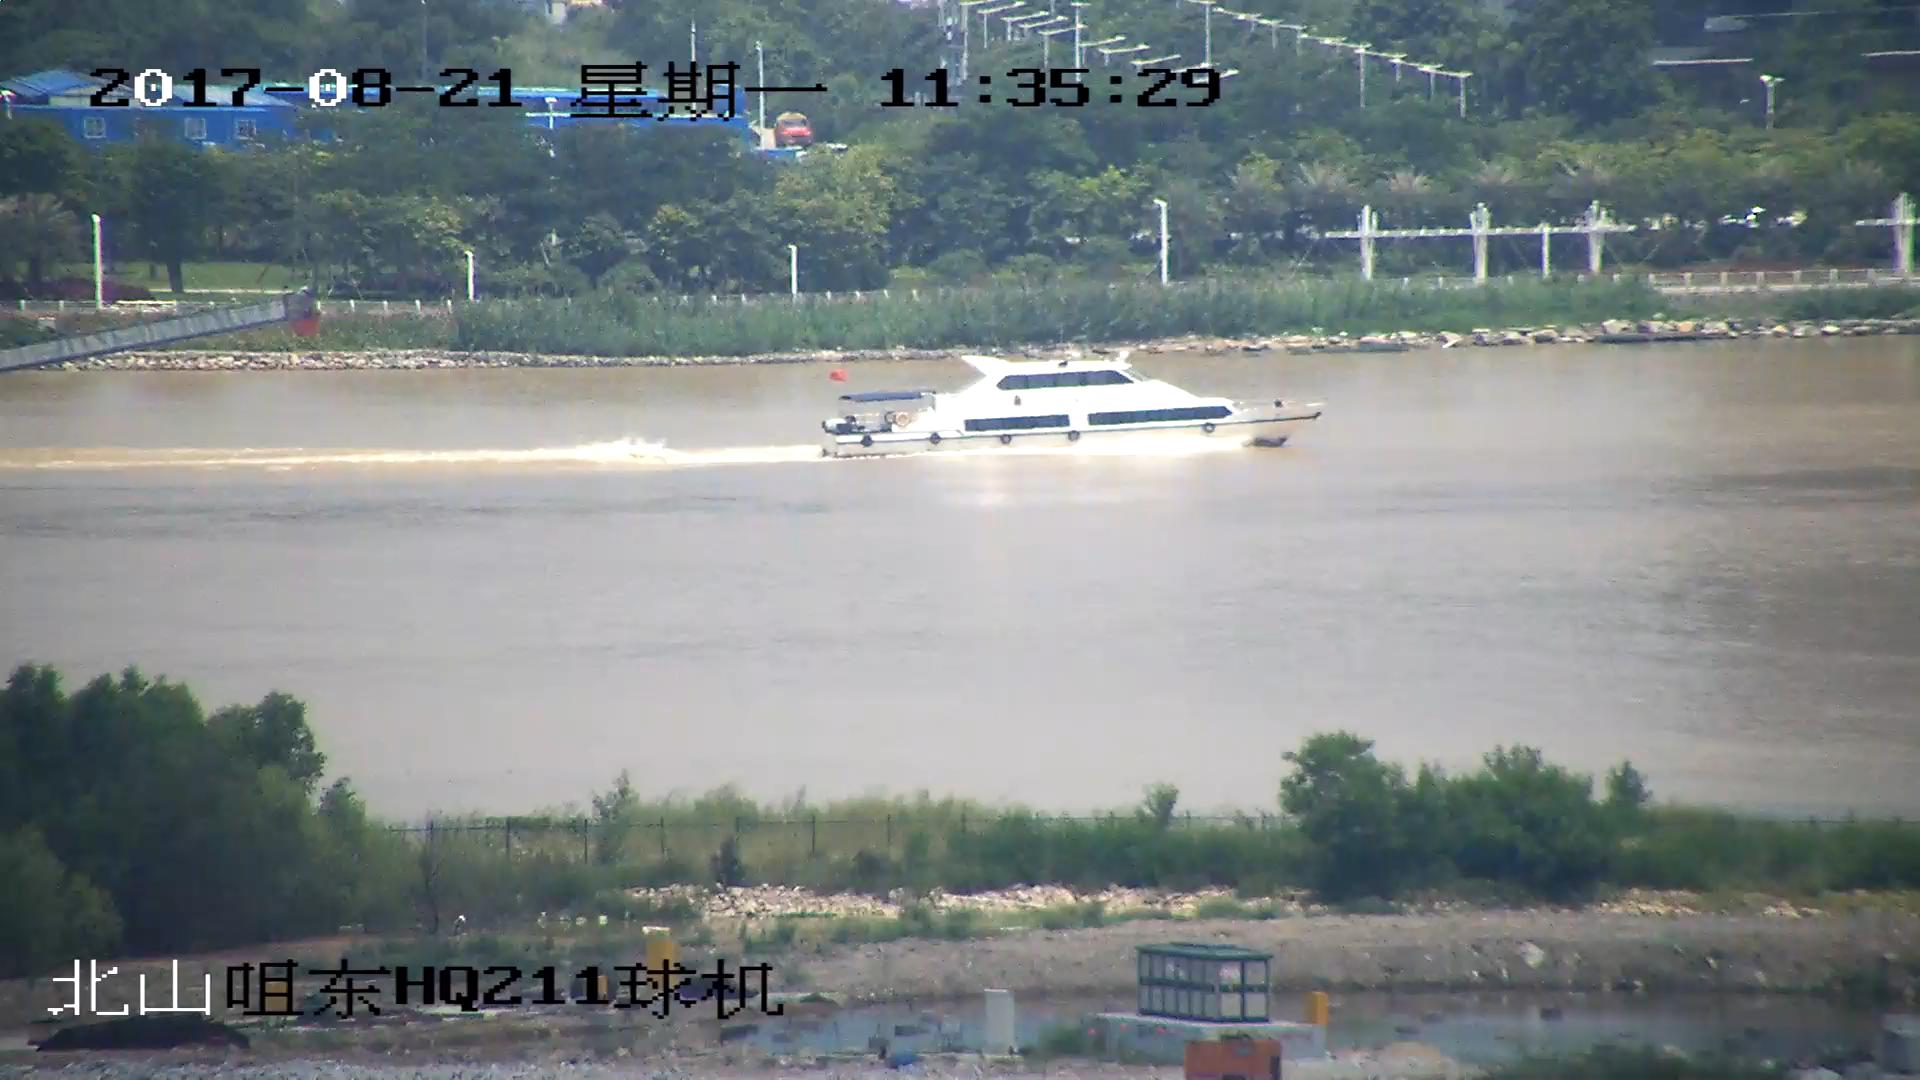passenger ship: (820, 355, 1324, 469)
